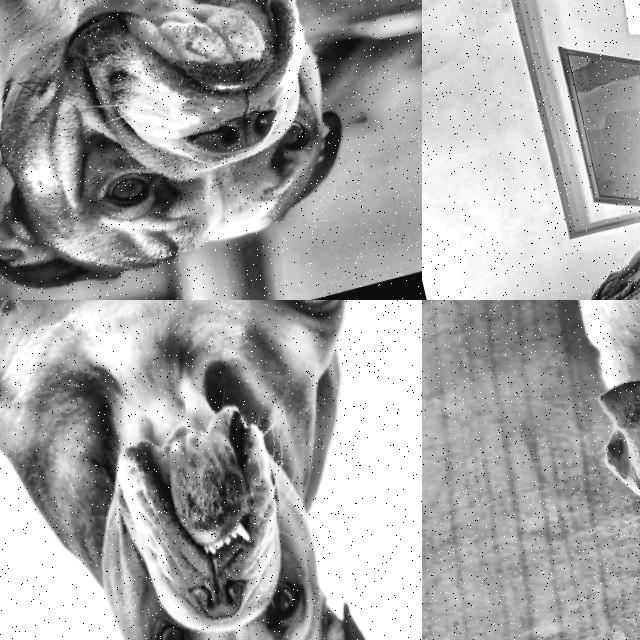beagle: (561, 300, 640, 582)
bulldog: (0, 0, 404, 300), (24, 350, 393, 640)
rottweiler: (551, 209, 640, 300)
